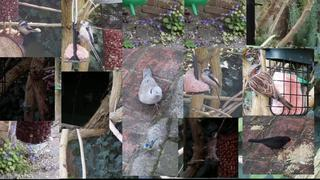blackbird: (248, 136, 294, 157)
blue tit: (143, 138, 158, 157)
collared dove: (138, 68, 163, 111)
long tailed tit: (77, 20, 102, 66), (201, 68, 222, 110), (15, 20, 41, 38)
mouse: (205, 138, 218, 162)
sparrow: (248, 64, 294, 111)
